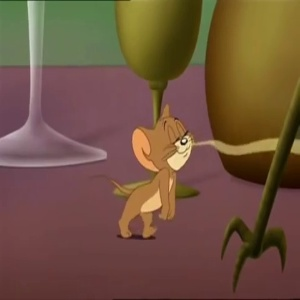Jerry: (128, 107, 199, 172)
